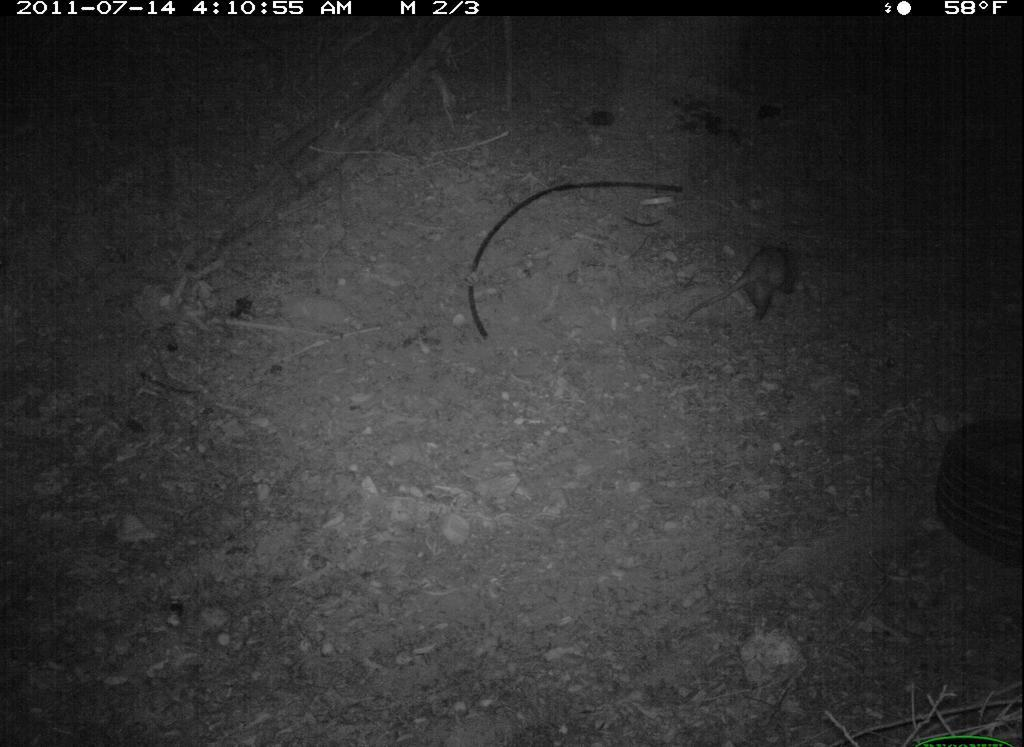opossum: (673, 236, 813, 340)
